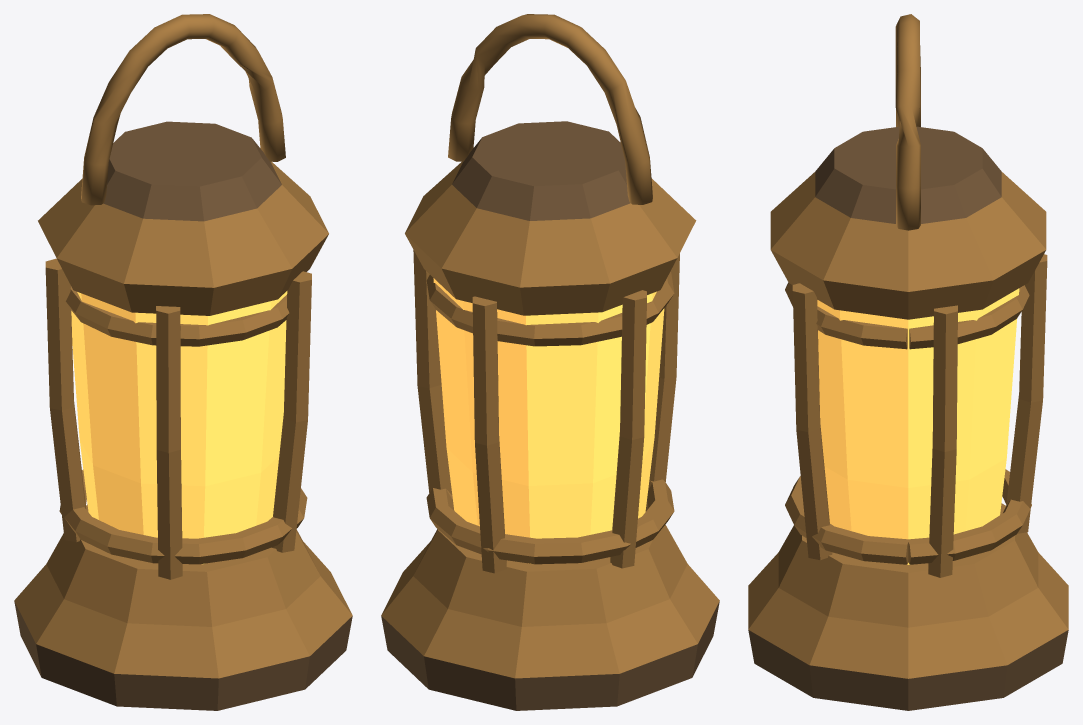
Rendered from lantern.glb.
The picture shows the model from 3 angles, left to right: view 1: azimuth 30°, elevation 25°; view 2: azimuth 150°, elevation 25°; view 3: azimuth 270°, elevation 25°; orthographic projection.
Visible parts, largest first — view 1: Brass Trail Lantern; view 2: Brass Trail Lantern; view 3: Brass Trail Lantern.
Part boxes in pixels (box(x1,y1,x2,y2)): Brass Trail Lantern: box(14, 14, 352, 710); Brass Trail Lantern: box(381, 14, 719, 710); Brass Trail Lantern: box(748, 14, 1068, 710).
Bounding box in the file's own units: 0.316 × 0.6427 × 0.3005.
